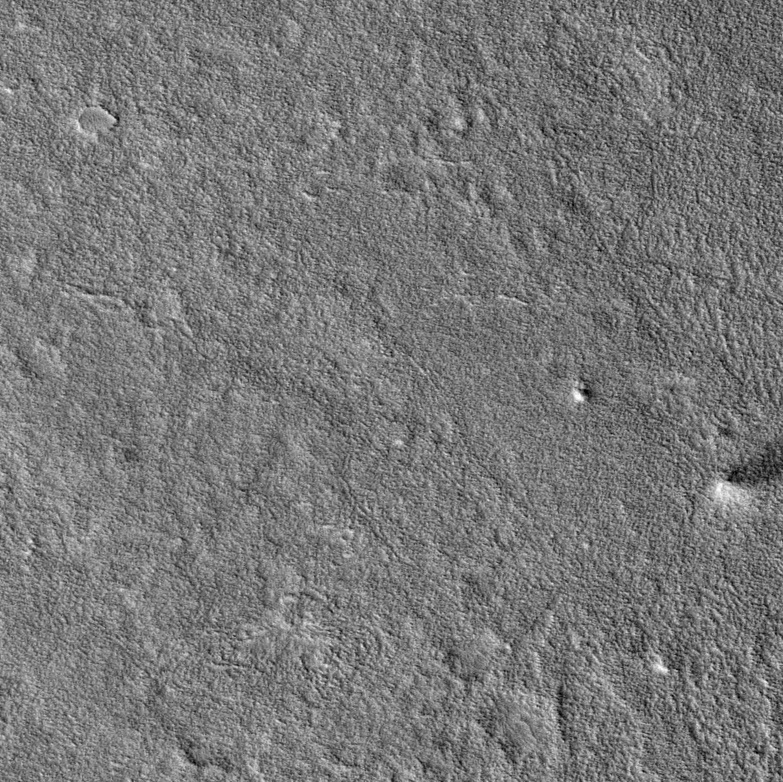dust_devil: (711, 432, 783, 510)
